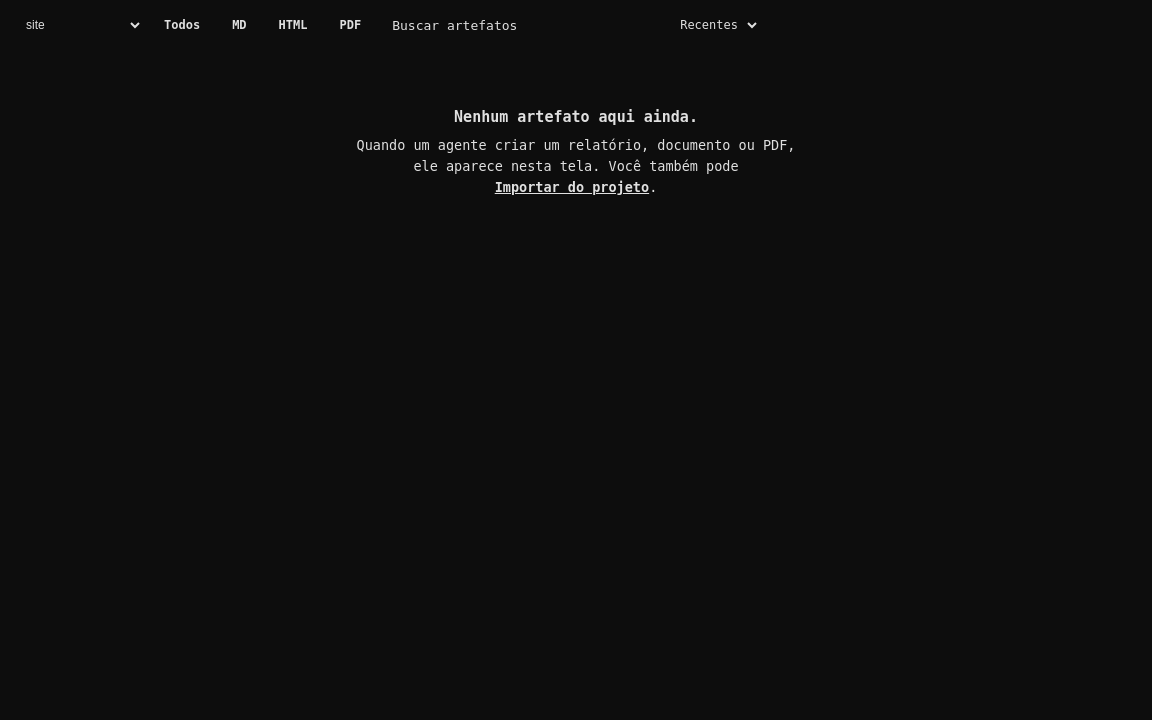
Scenario: Importar do projeto › o estado vazio também oferece "Importar do projeto"
Click the button "Importar do projeto".
click(572, 188)  # box [495, 177, 649, 198]
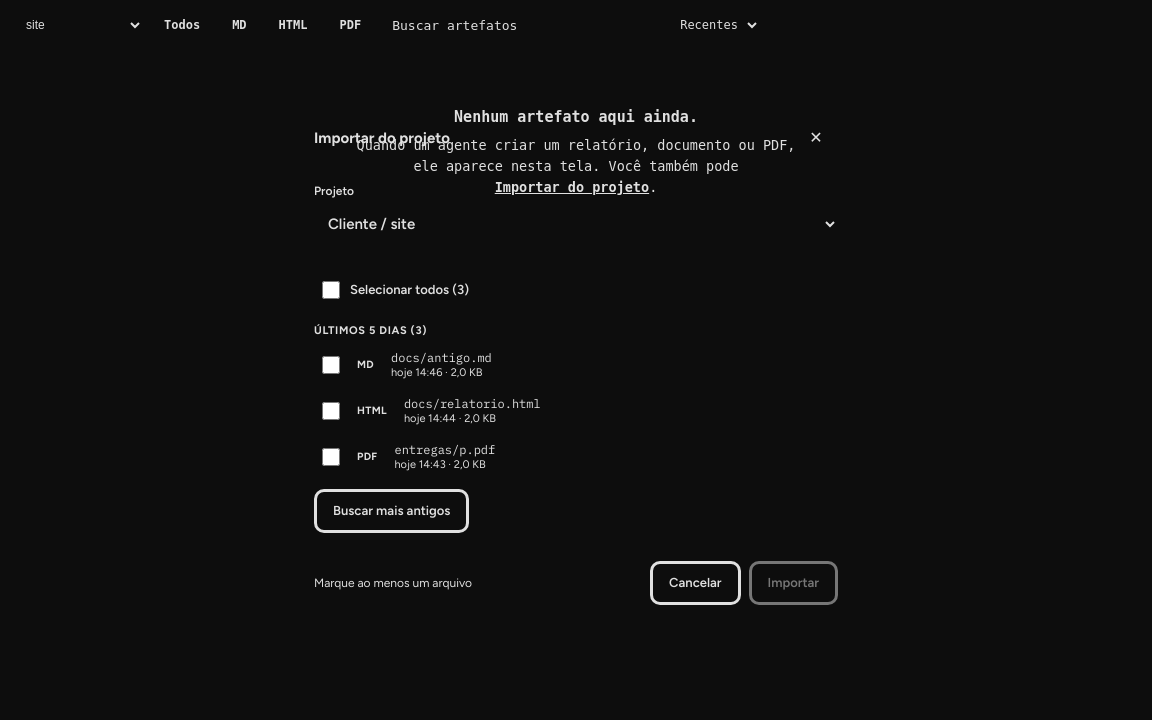
Now the element with test id "import-artifacts-modal" is shown, box [296, 100, 856, 620]
